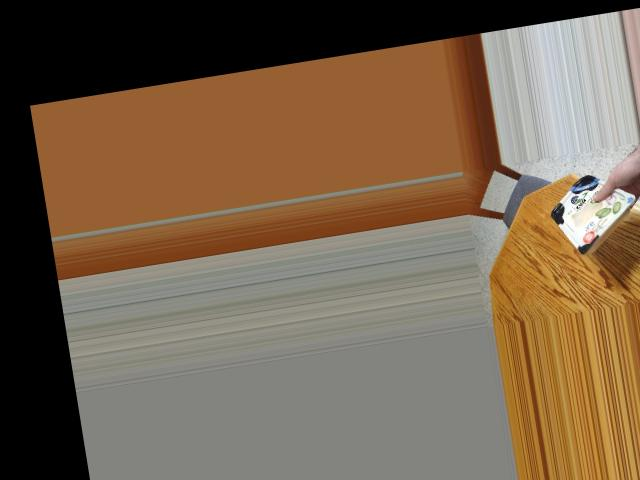cheese: (546, 178, 631, 253)
